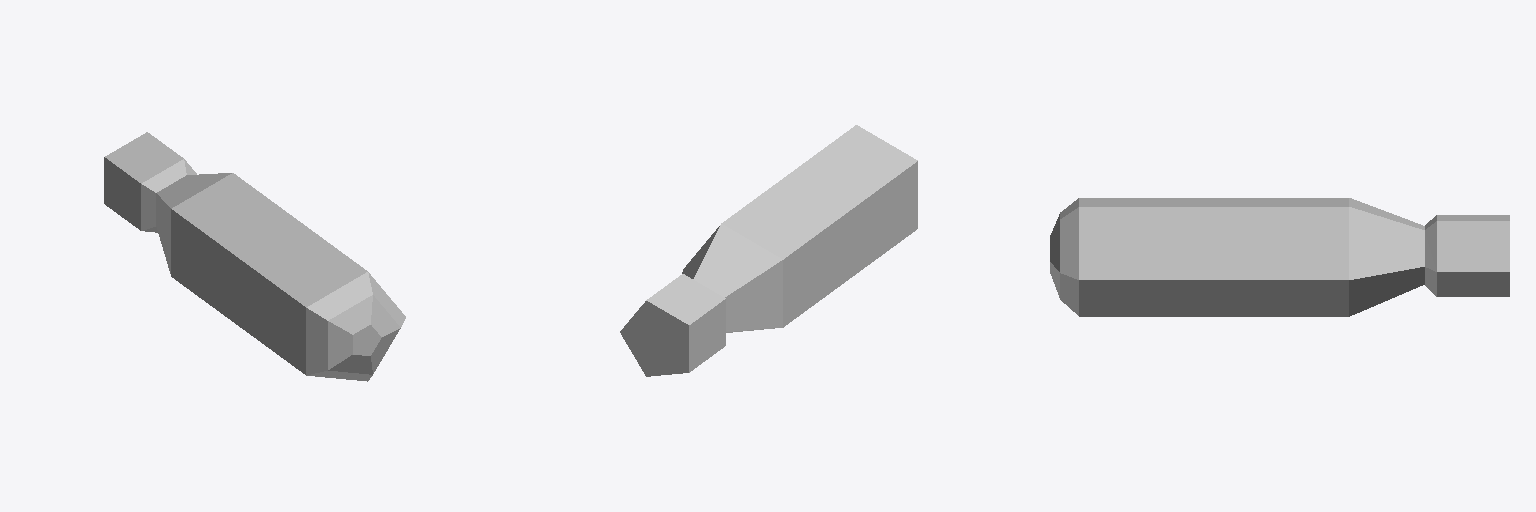
File: mdl_rocket.obj
3 views of the same model, side by side, from view 1: azimuth 30°, elevation 25°; view 2: azimuth 150°, elevation 25°; view 3: azimuth 270°, elevation 25° (orthographic).
Parts seen in each view (by area): view 1: Cylinder001; view 2: Cylinder001; view 3: Cylinder001.
Part boxes in pixels (x1,y1,x2,y2): Cylinder001: (104, 132, 405, 381); Cylinder001: (620, 125, 917, 376); Cylinder001: (1050, 198, 1509, 316).
Bounding box in the file's own units: 0.1316 × 0.1384 × 0.5247.